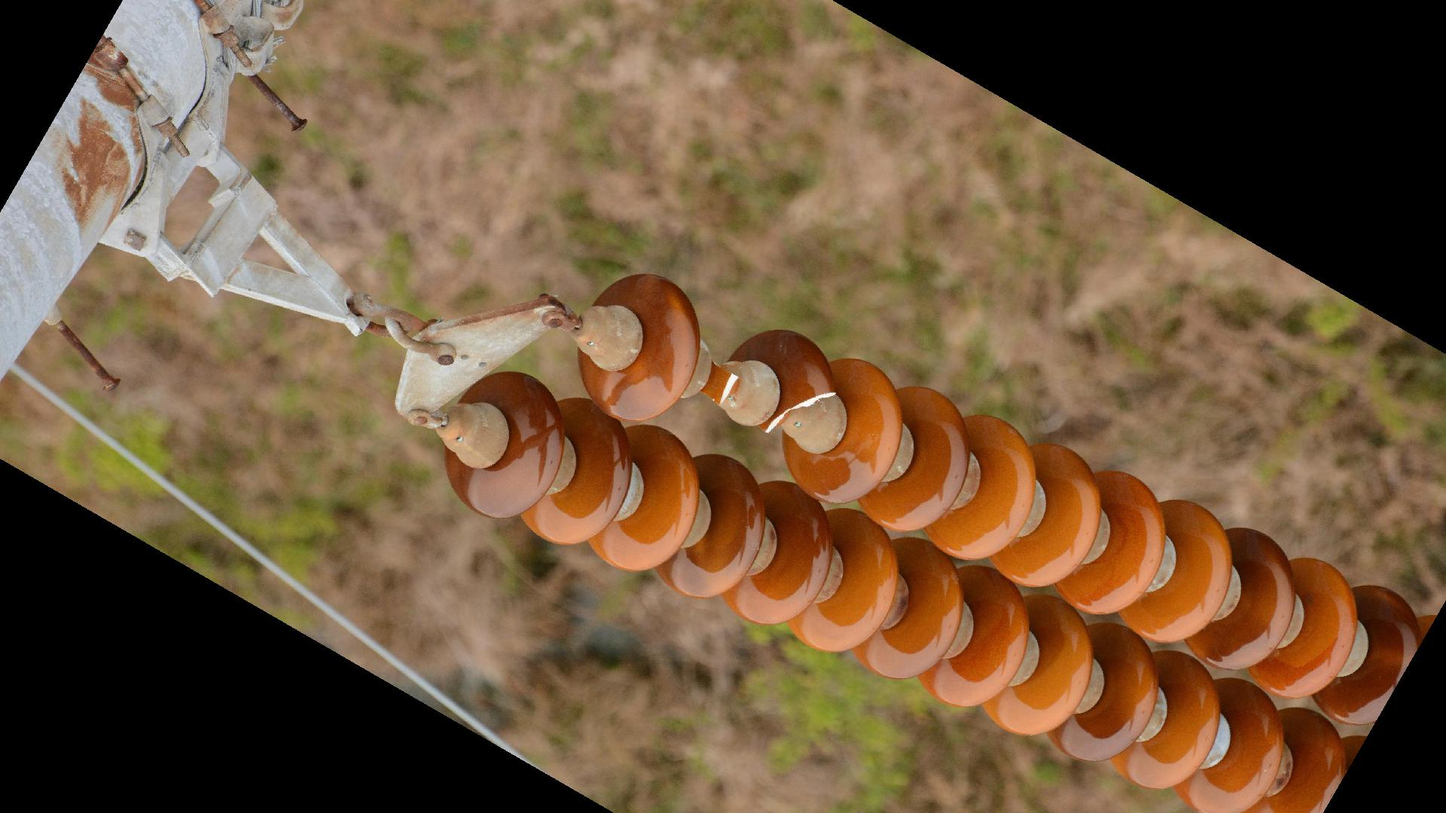insulator: (436, 368, 1355, 813), (721, 324, 1429, 730), (572, 266, 704, 429)
insulator_breakage: (753, 382, 837, 442)
